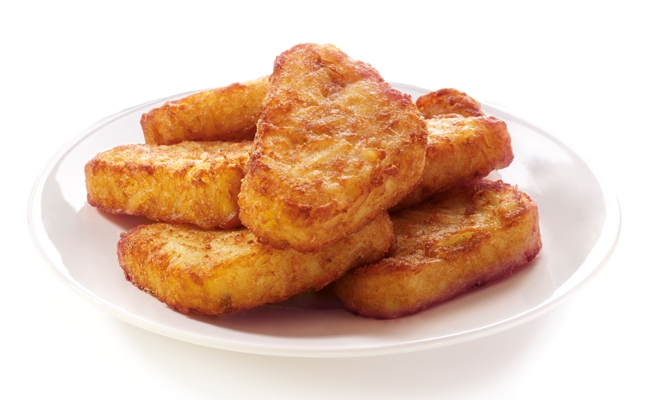triangle_hash_brown: (150, 58, 520, 310)
